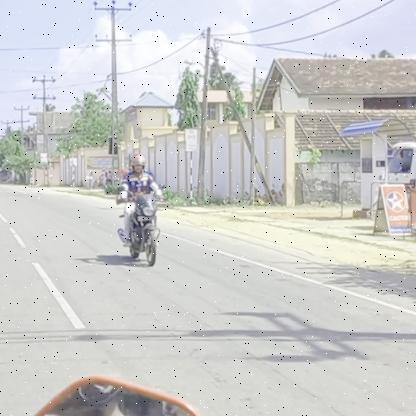motorcycle: (109, 192, 177, 269)
